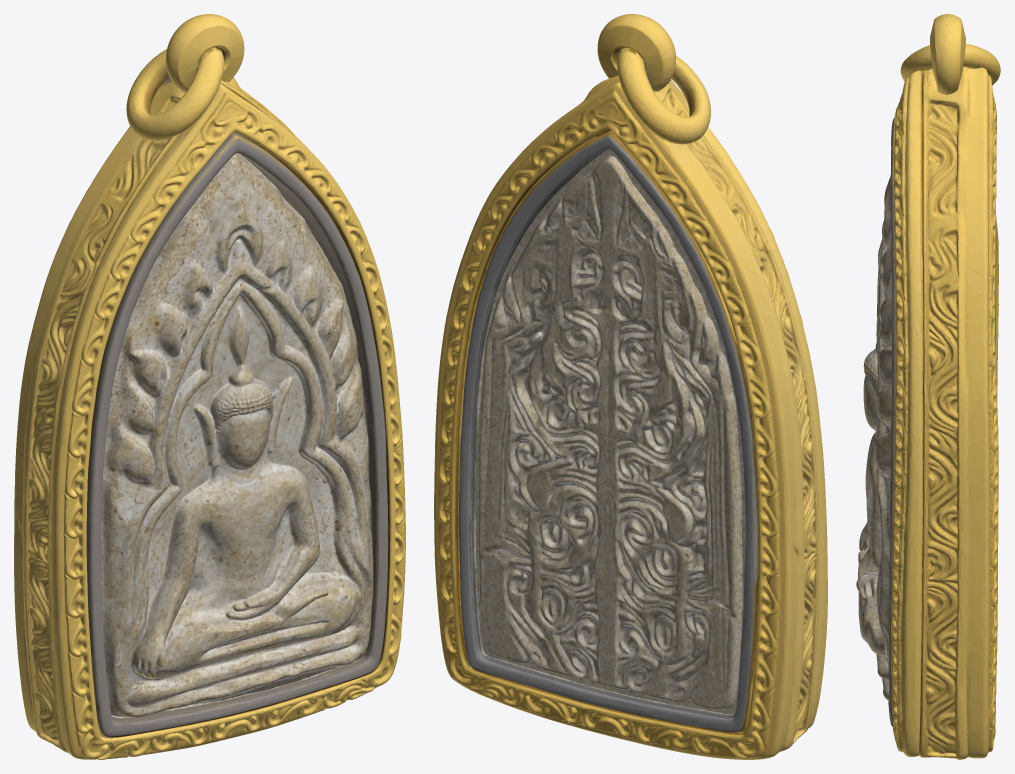
Rendered from original-khunpaen.glb.
3 renders of one model, left to right at view 1: azimuth 30°, elevation 25°; view 2: azimuth 150°, elevation 25°; view 3: azimuth 270°, elevation 25°, orthographic. The views are drawn at different scales.
Parts seen in each view (by area): view 1: Mesh_0; view 2: Mesh_0; view 3: Mesh_0.
Boxes of the visible parts, left/top/right/bottom form: Mesh_0: left=14, top=14, right=405, bottom=759; Mesh_0: left=434, top=14, right=827, bottom=759; Mesh_0: left=856, top=14, right=1000, bottom=759.
Bounding box in the file's own units: 1 × 1.9 × 0.3648.
Materials: 1 (1 with a texture image).
